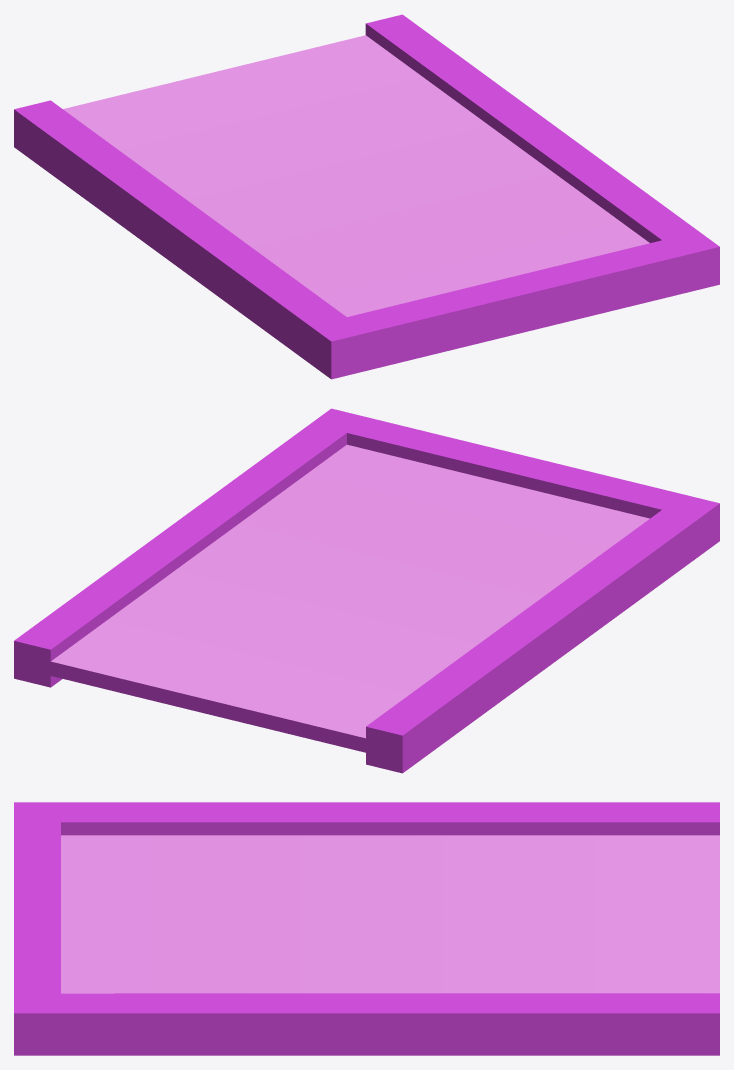
Rendered from Ground2.fbx.
3 views of the same model, one above another, from view 1: azimuth 30°, elevation 25°; view 2: azimuth 150°, elevation 25°; view 3: azimuth 270°, elevation 25° (orthographic). The views are drawn at different scales.
Parts seen in each view (by area): view 1: Cube.020; view 2: Cube.020; view 3: Cube.020.
Part boxes in pixels (x1,y1,x2,y2): Cube.020: (14,14,719,379); Cube.020: (14,408,719,773); Cube.020: (14,802,719,1055).
Size of the model in its own units: 6.28 by 8.88 by 0.5843.
